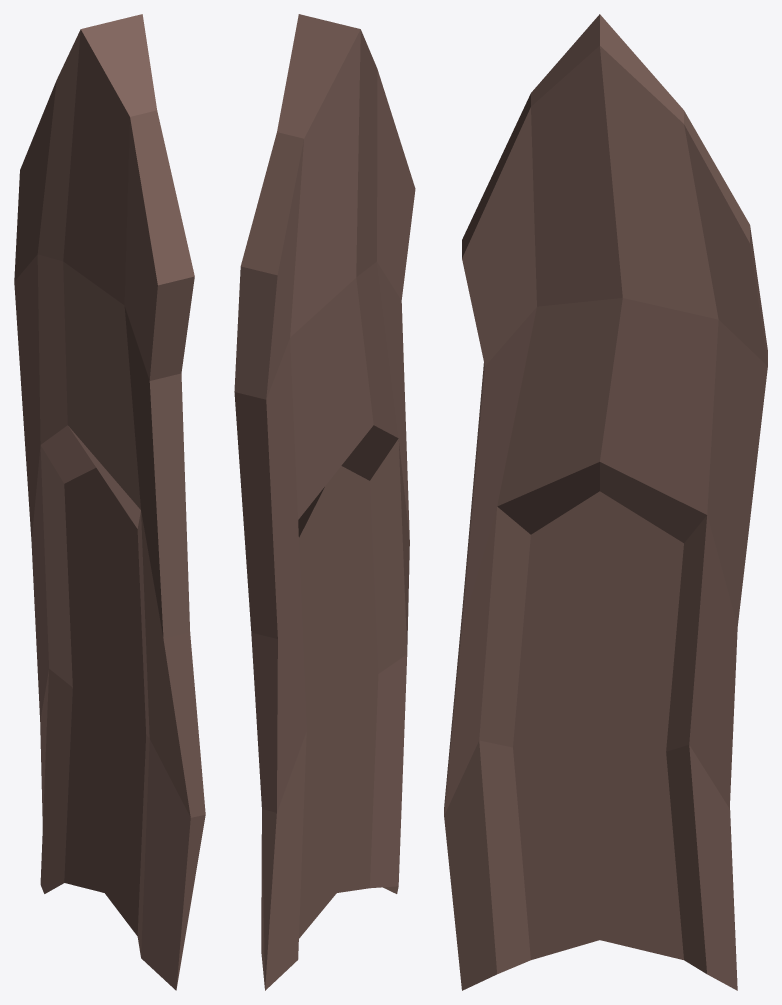
The model's file is Litico.fbx.
3 renders of one model, left to right at view 1: azimuth 30°, elevation 25°; view 2: azimuth 150°, elevation 25°; view 3: azimuth 270°, elevation 25°, orthographic. The views are drawn at different scales.
Parts seen in each view (by area): view 1: Cube; view 2: Cube; view 3: Cube.
Boxes of the visible parts, x1=… form: Cube: x1=14, y1=14, x2=205, y2=990; Cube: x1=234, y1=14, x2=415, y2=990; Cube: x1=444, y1=14, x2=767, y2=990.
Bounding box in the file's own units: 1.27 × 12.97 × 3.96.
